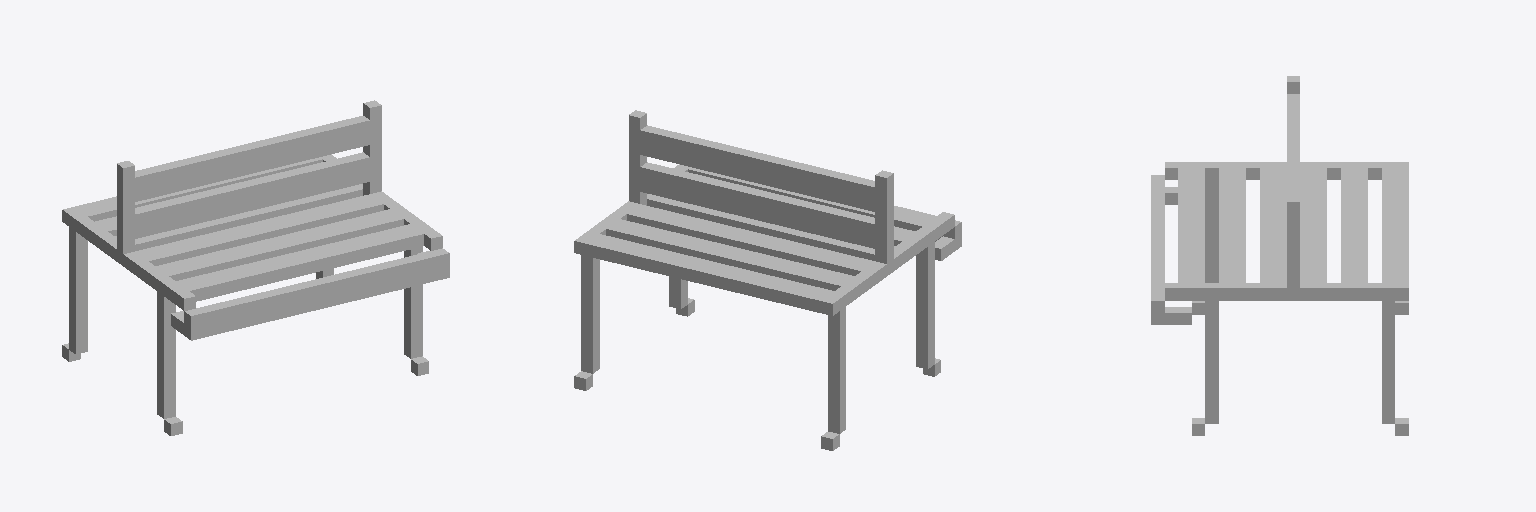
File: bench.obj
The picture shows the model from 3 angles: view 1: azimuth 30°, elevation 25°; view 2: azimuth 150°, elevation 25°; view 3: azimuth 270°, elevation 25°; orthographic projection.
Parts seen in each view (by area): view 1: object 1; view 2: object 1; view 3: object 1.
Boxes of the visible parts, box(x1,y1,x2,y2) form: object 1: box(62, 100, 449, 435); object 1: box(574, 110, 961, 450); object 1: box(1151, 76, 1408, 435).
Size of the model in its own units: 2.2 by 1.9 by 1.9.